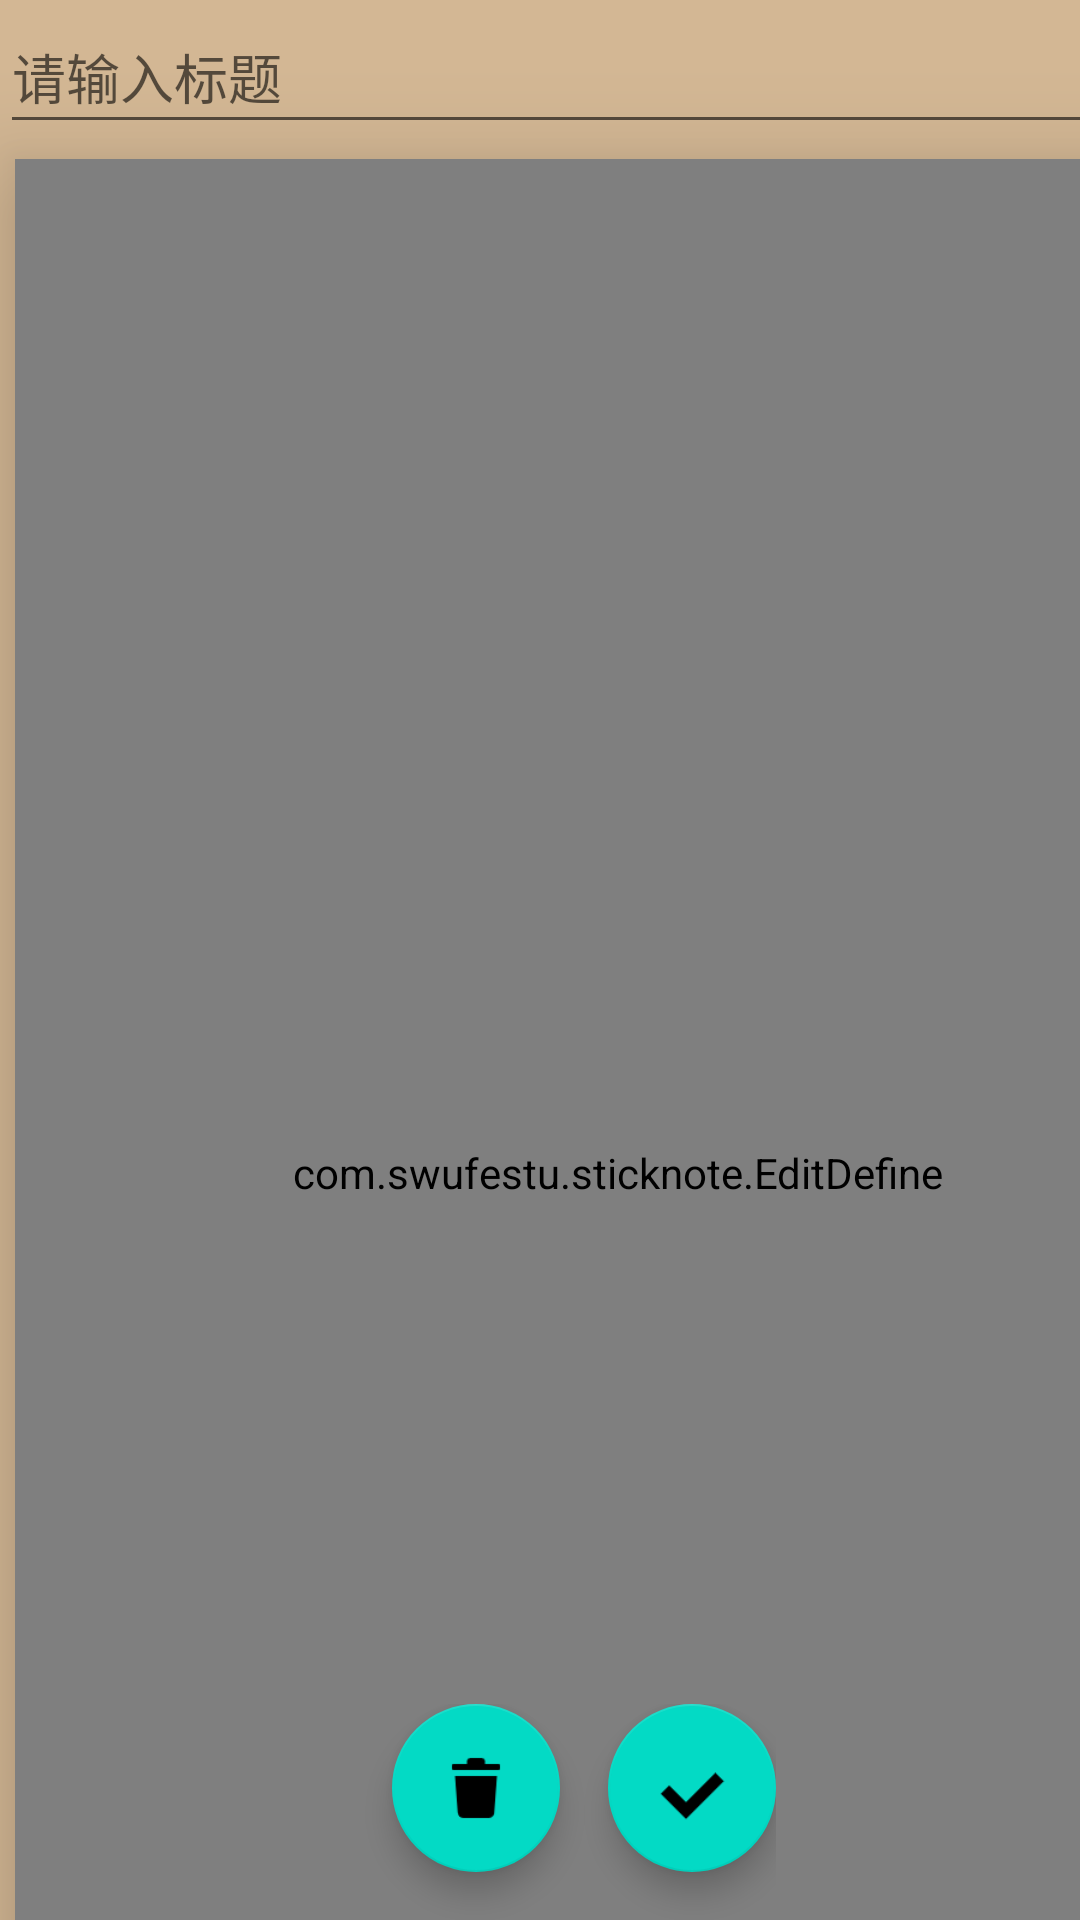

Screen size 1080x1920. Icon name, then its center in pixels as (x=x, y=y):
dele: (x=476, y=1788)
right: (x=692, y=1788)
